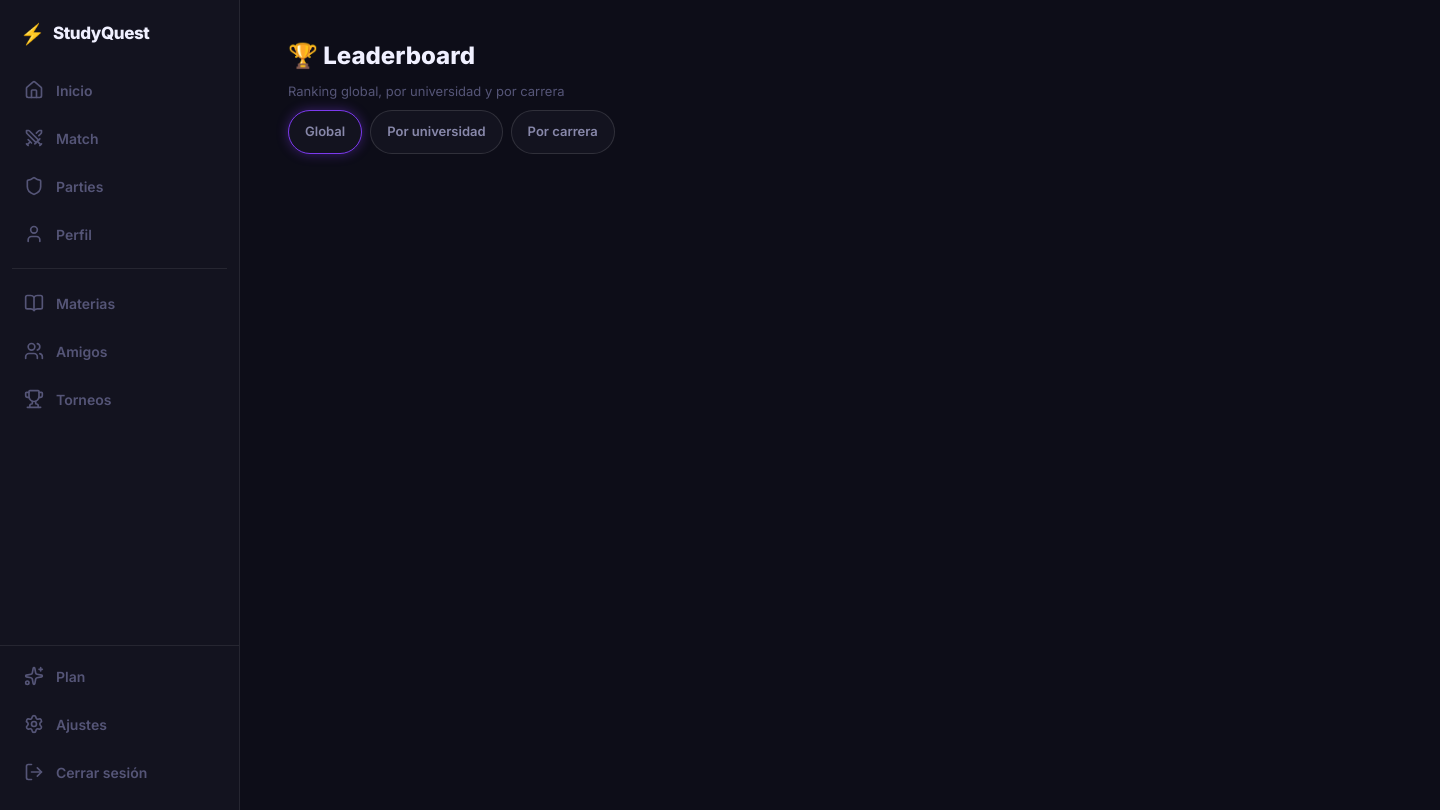
Test: LeaderboardPage › switches to Por carrera and defaults the selector to the user own career
Click the tab "Por carrera" at [563, 132], box x1=511 y1=110 x2=615 y2=154
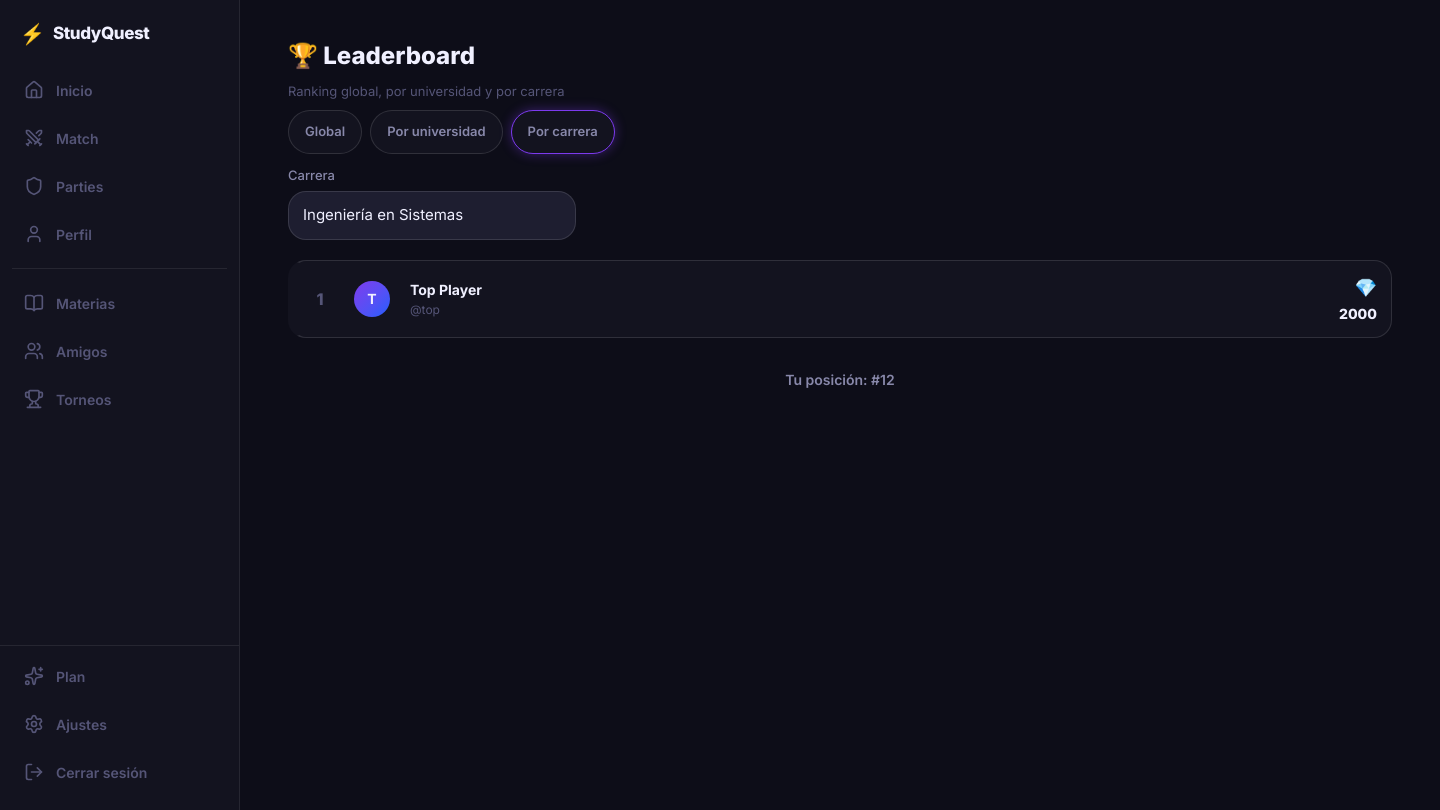
expect the dropdown labelled "Carrera" shows "Ingeniería en Sistemas": met, box x1=288 y1=191 x2=576 y2=240
